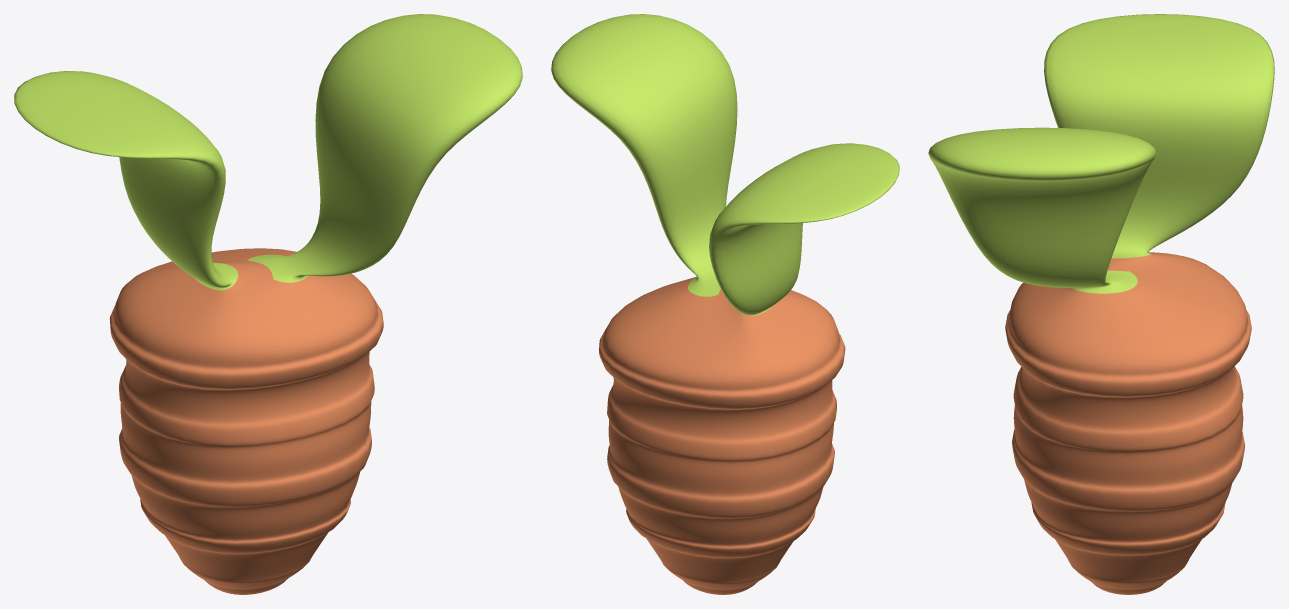
File: Carrot.fbx
The picture shows the model from 3 angles, left to right: view 1: azimuth 30°, elevation 25°; view 2: azimuth 150°, elevation 25°; view 3: azimuth 270°, elevation 25°; orthographic projection. The views are drawn at different scales.
Parts seen in each view (by area): view 1: Cube.001; view 2: Cube.001; view 3: Cube.001.
Boxes of the visible parts, x1,y1,x2,y2 form: Cube.001: [14, 14, 522, 594]; Cube.001: [551, 14, 899, 594]; Cube.001: [928, 14, 1274, 594].
Size of the model in its own units: 39.43 by 50 by 30.
